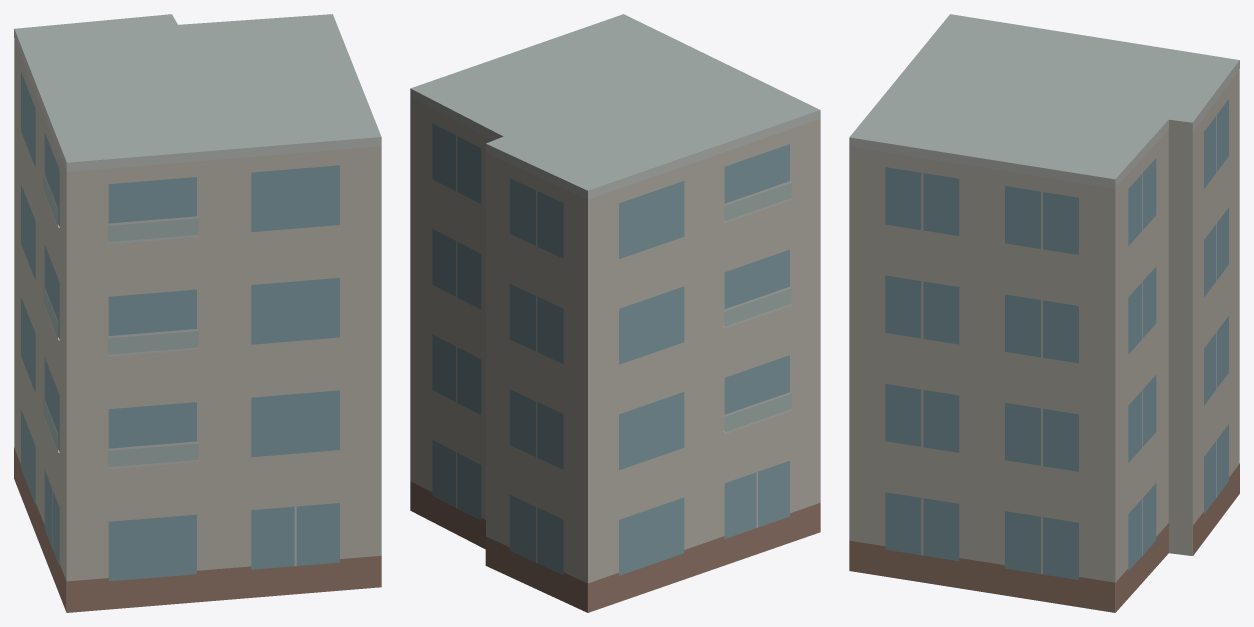
Rendered from survey-upis-32513308.glb.
The picture shows the model from 3 angles, left to right: view 1: azimuth 30°, elevation 25°; view 2: azimuth 150°, elevation 25°; view 3: azimuth 270°, elevation 25°; orthographic projection. The views are drawn at different scales.
Parts seen in each view (by area): view 1: survey-upis-32513308.tmp; view 2: survey-upis-32513308.tmp; view 3: survey-upis-32513308.tmp.
Part boxes in pixels (left/top/right/bottom): survey-upis-32513308.tmp: left=14, top=14, right=381, bottom=612; survey-upis-32513308.tmp: left=410, top=14, right=820, bottom=612; survey-upis-32513308.tmp: left=849, top=14, right=1239, bottom=612.
Bounding box in the file's own units: 9.58 × 11.7 × 9.56.
